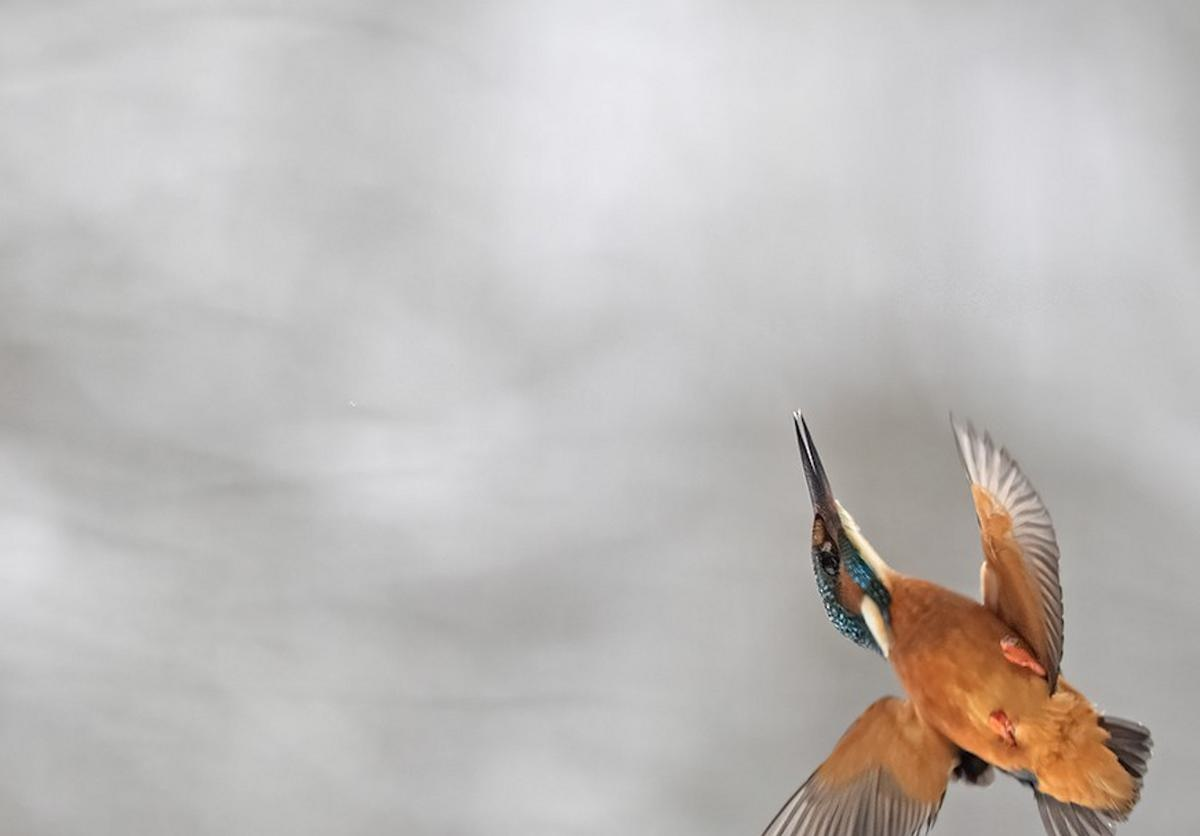kingfisher: (717, 383, 1158, 836)
